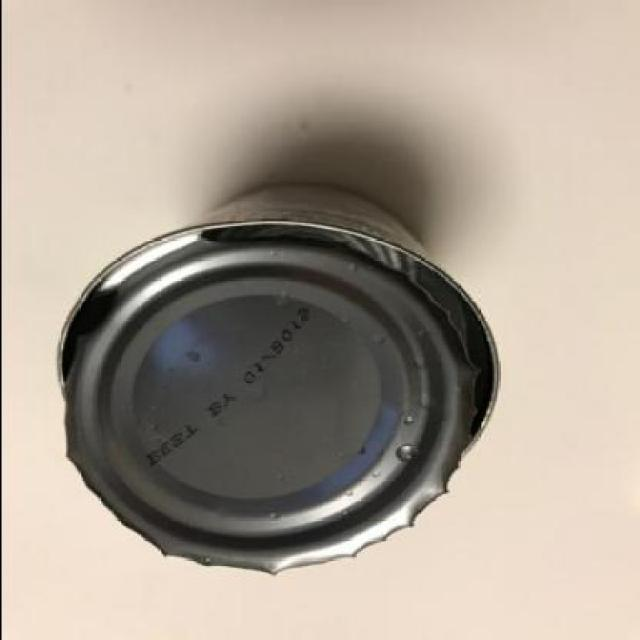METAL: (60, 235, 483, 574), (56, 183, 498, 460)
